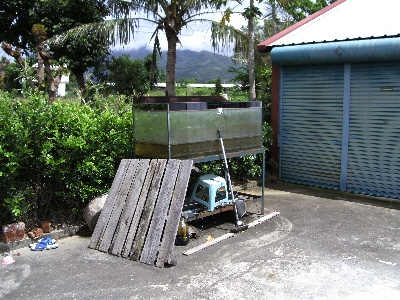aquarium: (132, 95, 262, 157)
